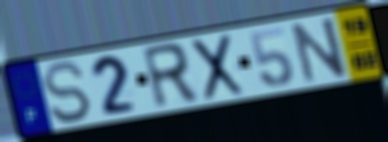2: (89, 52, 144, 120)
5: (247, 25, 295, 89)
N: (288, 15, 350, 86)
R: (139, 41, 202, 112)
S: (40, 60, 95, 126)
X: (190, 31, 247, 104)
